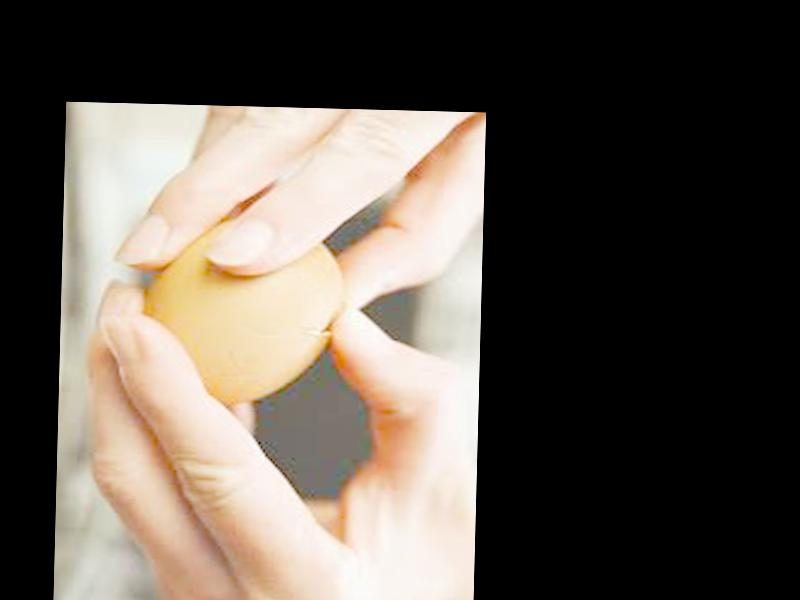Eggs: (138, 215, 347, 406)
